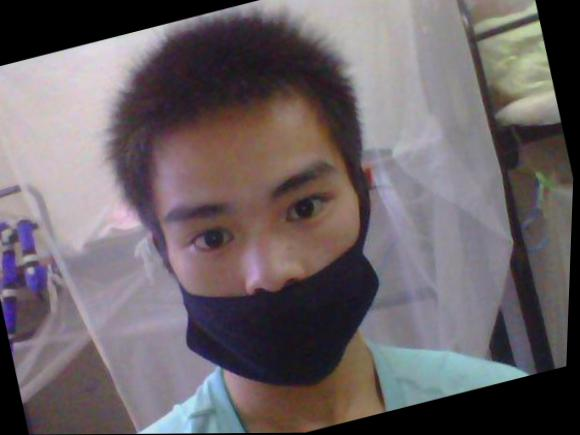WRONG: (145, 130, 403, 399)
